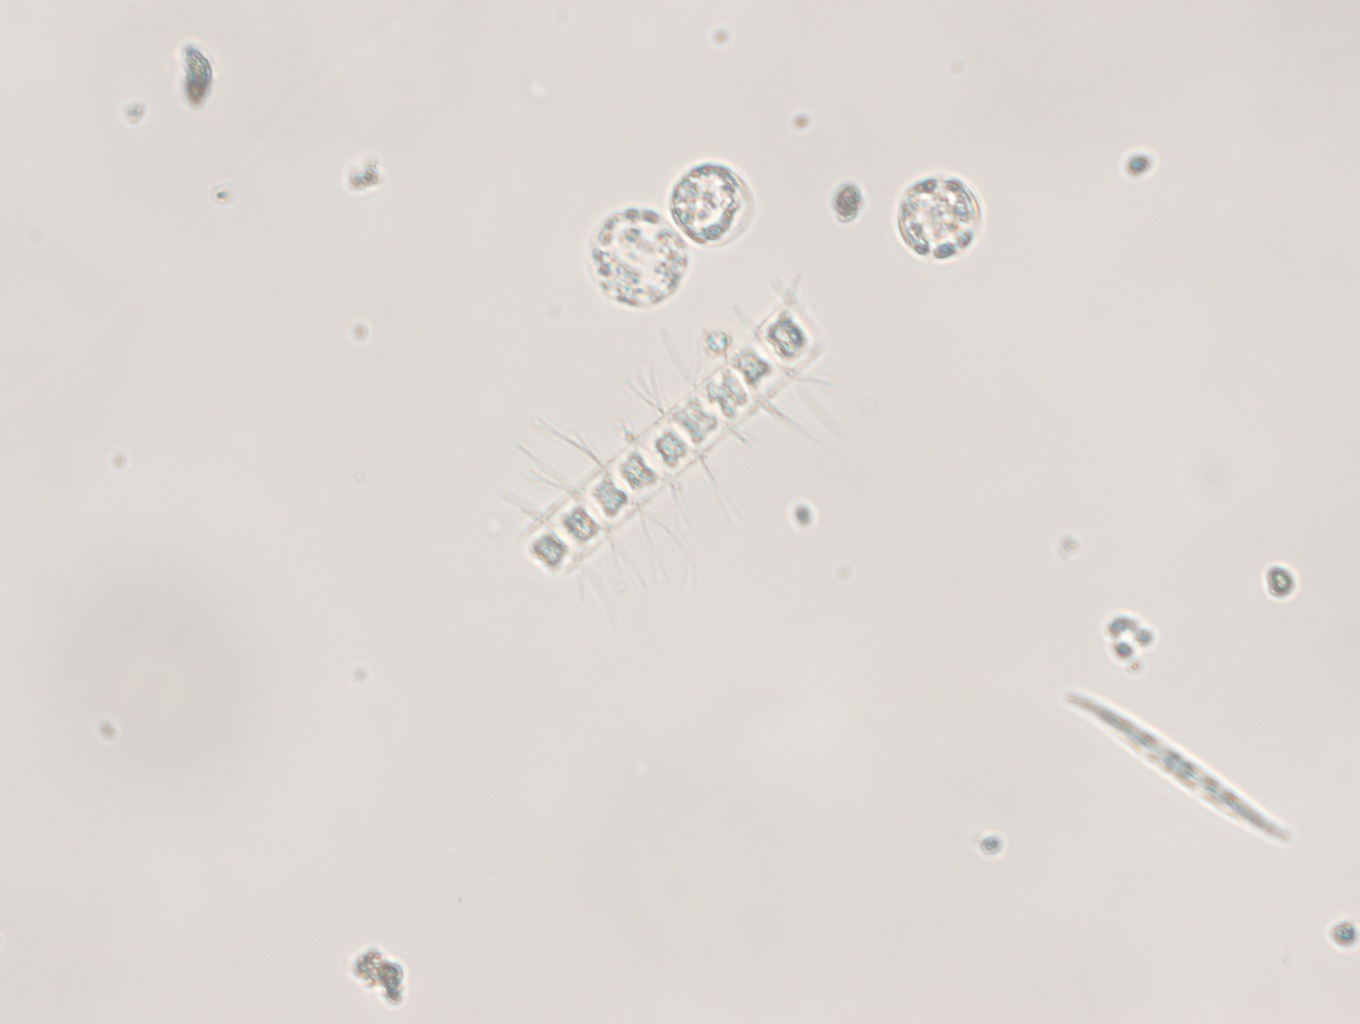chaetoceros: (498, 267, 867, 615)
pleurosigma pelagicum: (1057, 681, 1303, 849)
